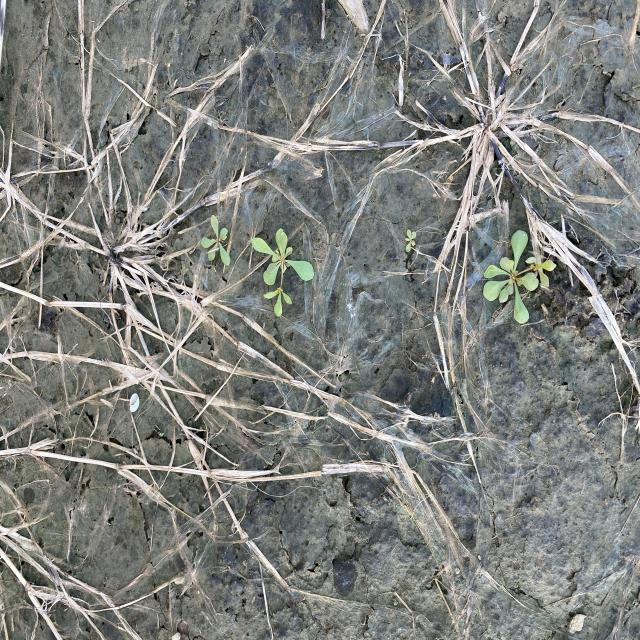Carpetweed: (482, 229, 558, 324), (250, 226, 314, 319), (200, 212, 231, 268)
